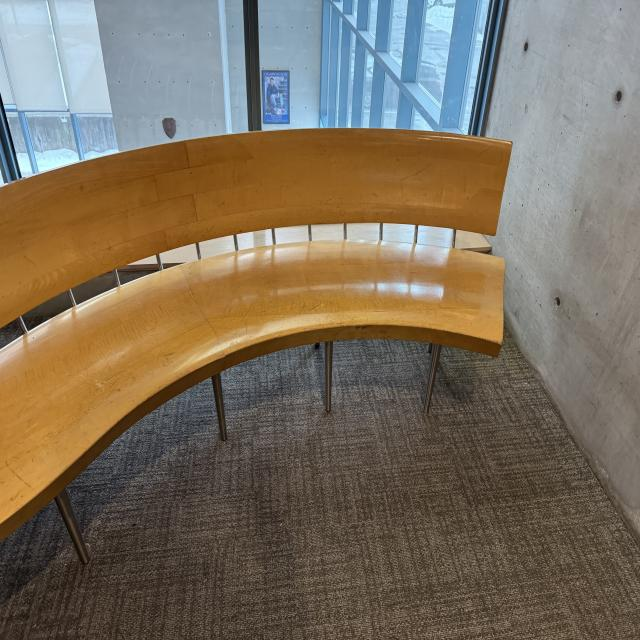Bench: (2, 128, 507, 580)
